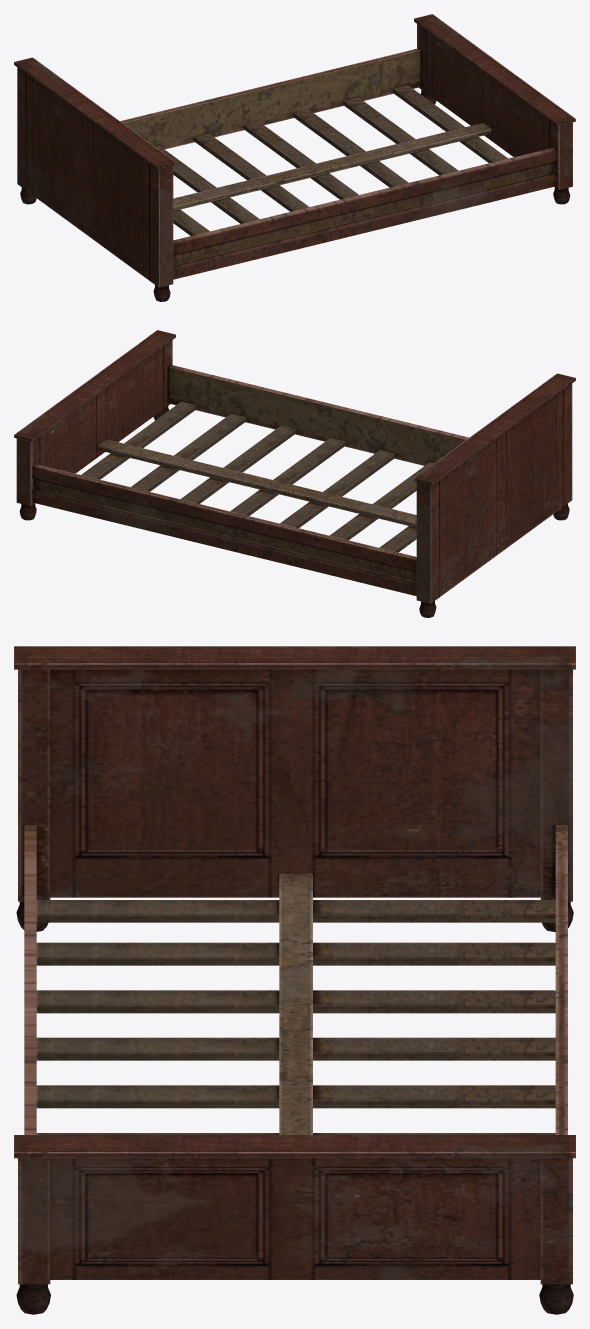
Rendered from bedframe_single.glb.
The picture shows the model from 3 angles, top to bottom: view 1: azimuth 30°, elevation 25°; view 2: azimuth 150°, elevation 25°; view 3: azimuth 270°, elevation 25°; orthographic projection. The views are drawn at different scales.
Visible parts, largest first — view 1: bedframe_single; view 2: bedframe_single; view 3: bedframe_single.
Part boxes in pixels (x1,y1,x2,y2): bedframe_single: (14,14,575,301); bedframe_single: (14,330,575,617); bedframe_single: (14,646,575,1314).
Bounding box in the file's own units: 2.13 × 0.6718 × 1.26.
Materials: 1 (1 with a texture image).
